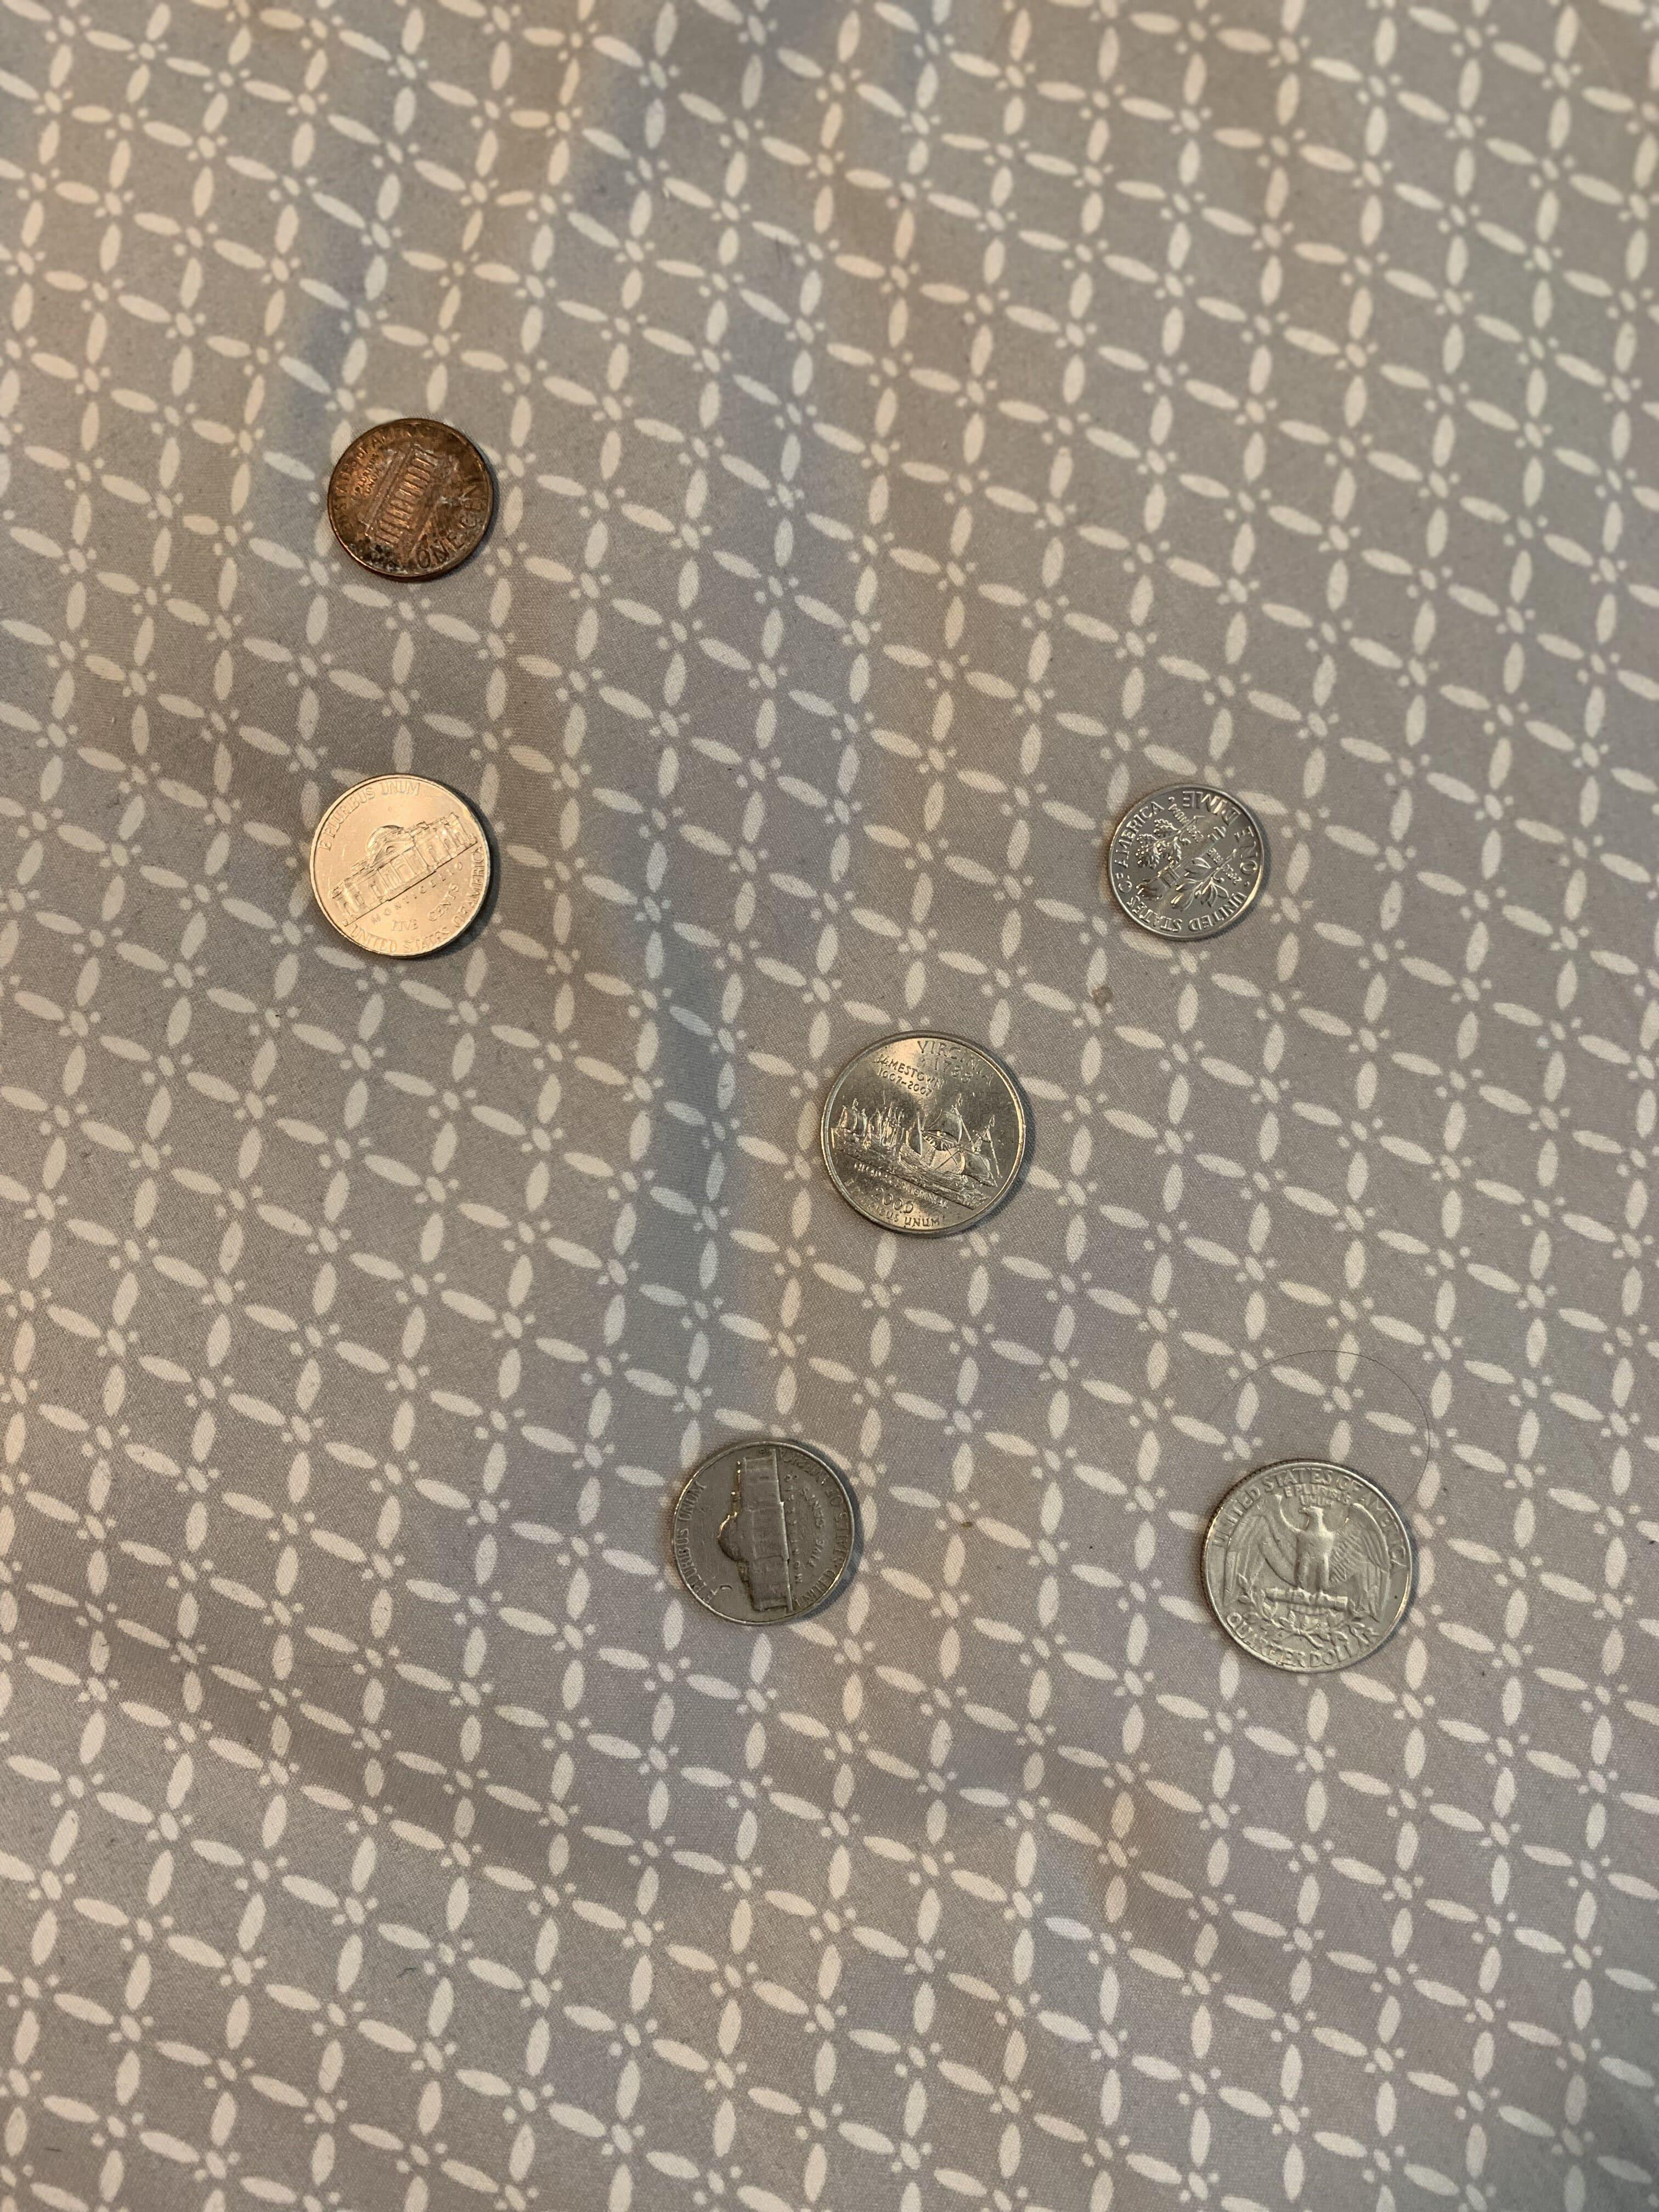Dime: (1079, 758, 1302, 974)
Nickel: (272, 744, 528, 996), (641, 1409, 894, 1662)
Penny: (291, 399, 540, 610)
Quarter: (1168, 1446, 1445, 1691), (800, 1007, 1053, 1268)
